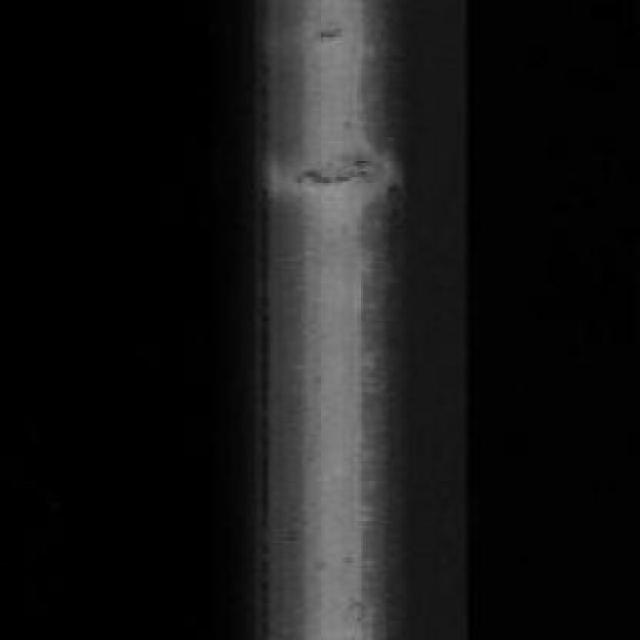non-defective: (232, 0, 472, 638)
